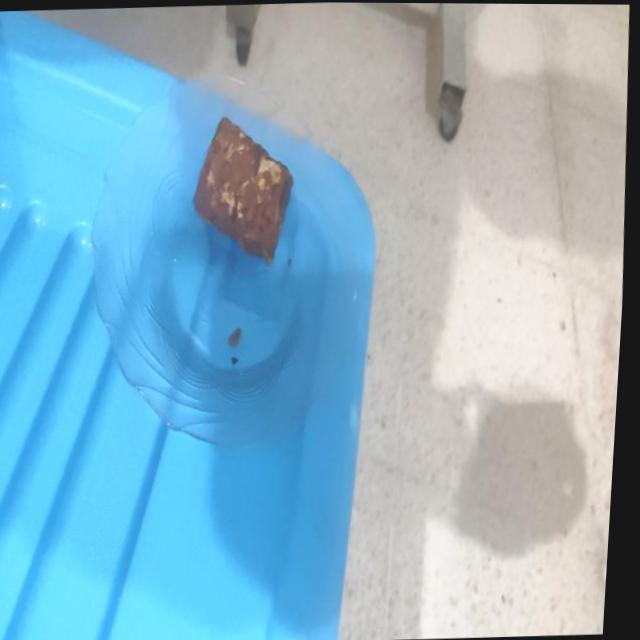tempe_goreng: (194, 118, 292, 264)
